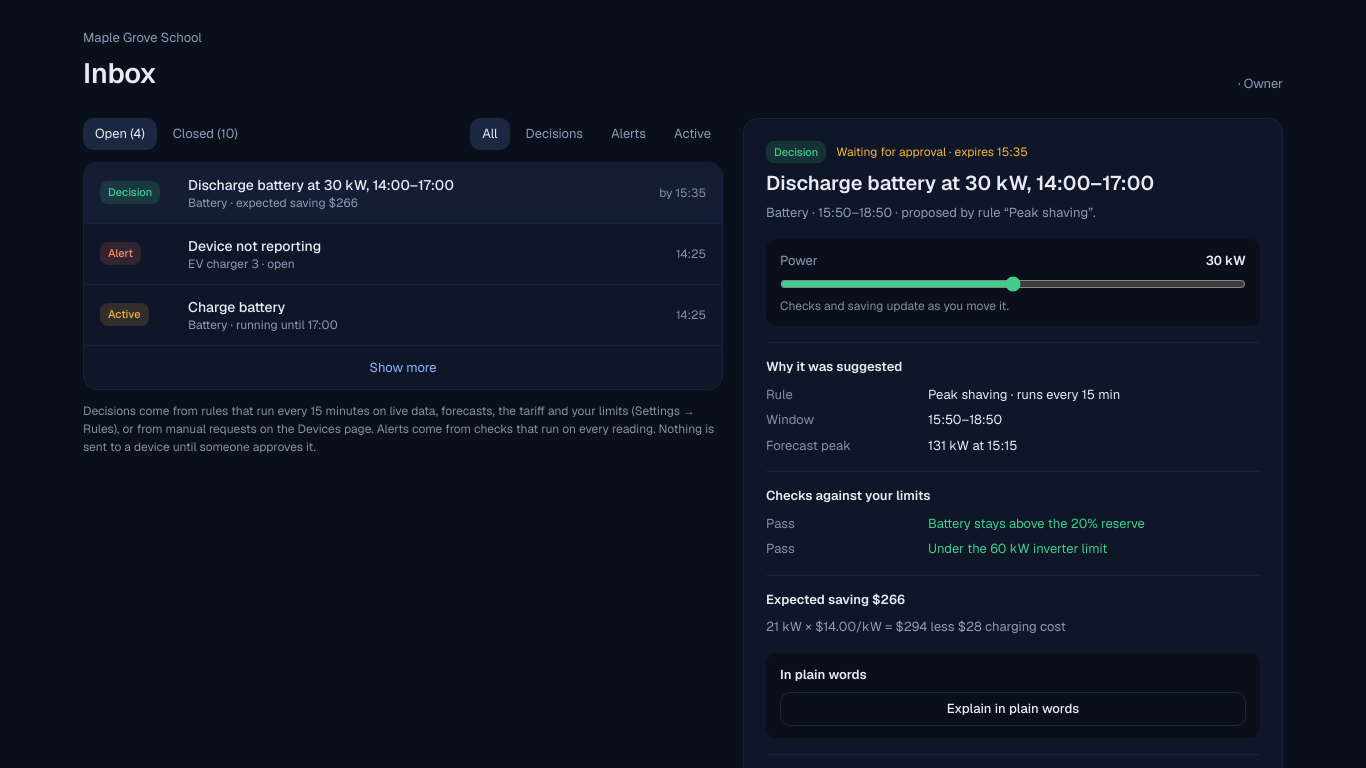
it: explanations (P5-05) › shows what the server says when it can’t
The image size is (1366, 768).
Click the button "Explain in plain words": (1013,709) x1=780 y1=692 x2=1246 y2=726
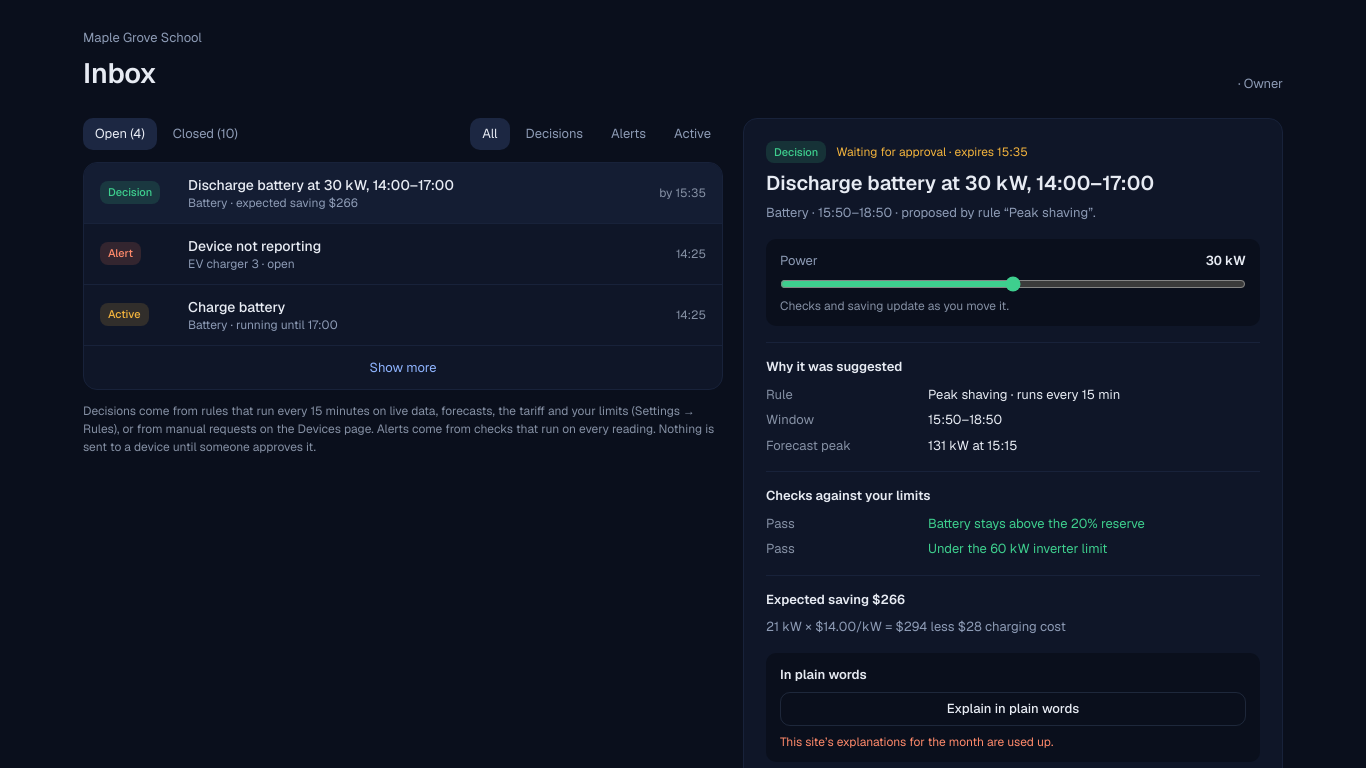
Result: the message shows "used up" at x1=780 y1=734 x2=1053 y2=750
